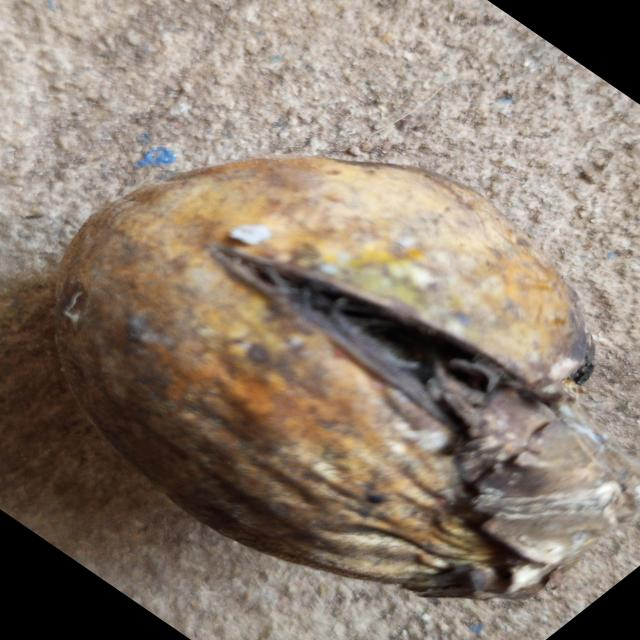damaged: (56, 157, 639, 598)
